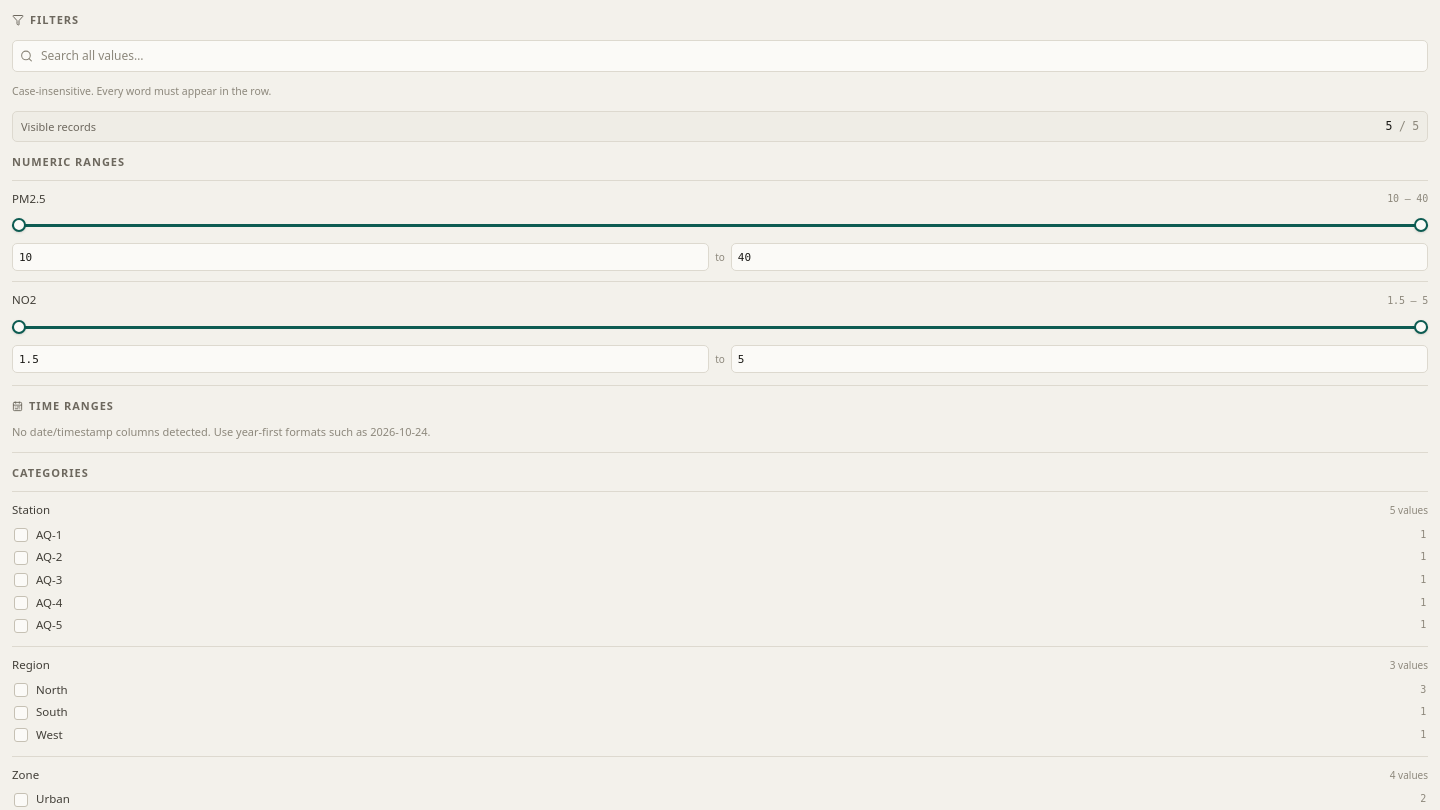
Test: FilterPanel › filters by category checkbox
Click the checkbox named "Region: North". click: (21, 690)
box: [14, 683, 28, 697]
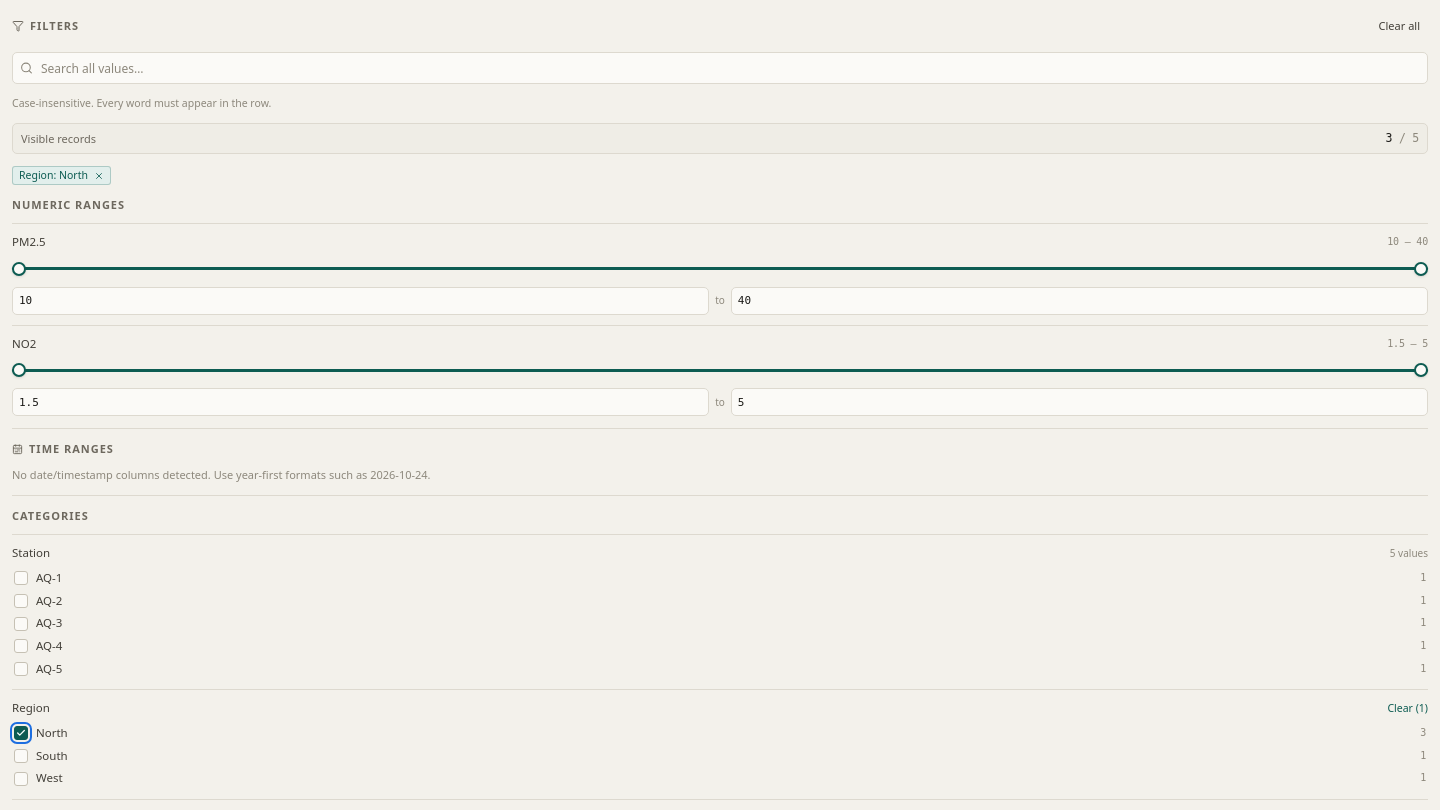
Expected: the text "3 / 5" is shown, [1386, 130, 1419, 147]
